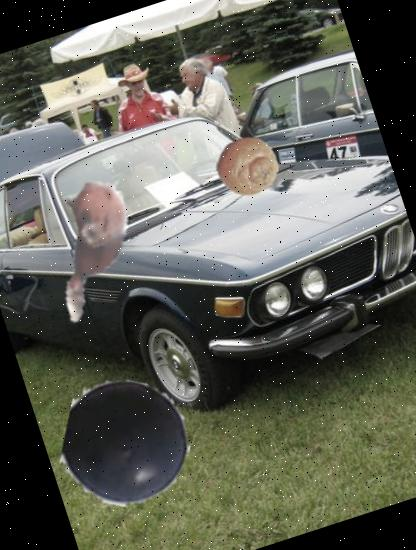Banana: (0, 157, 173, 338)
Grape: (48, 364, 206, 523)
Mandarine: (208, 126, 287, 206)
